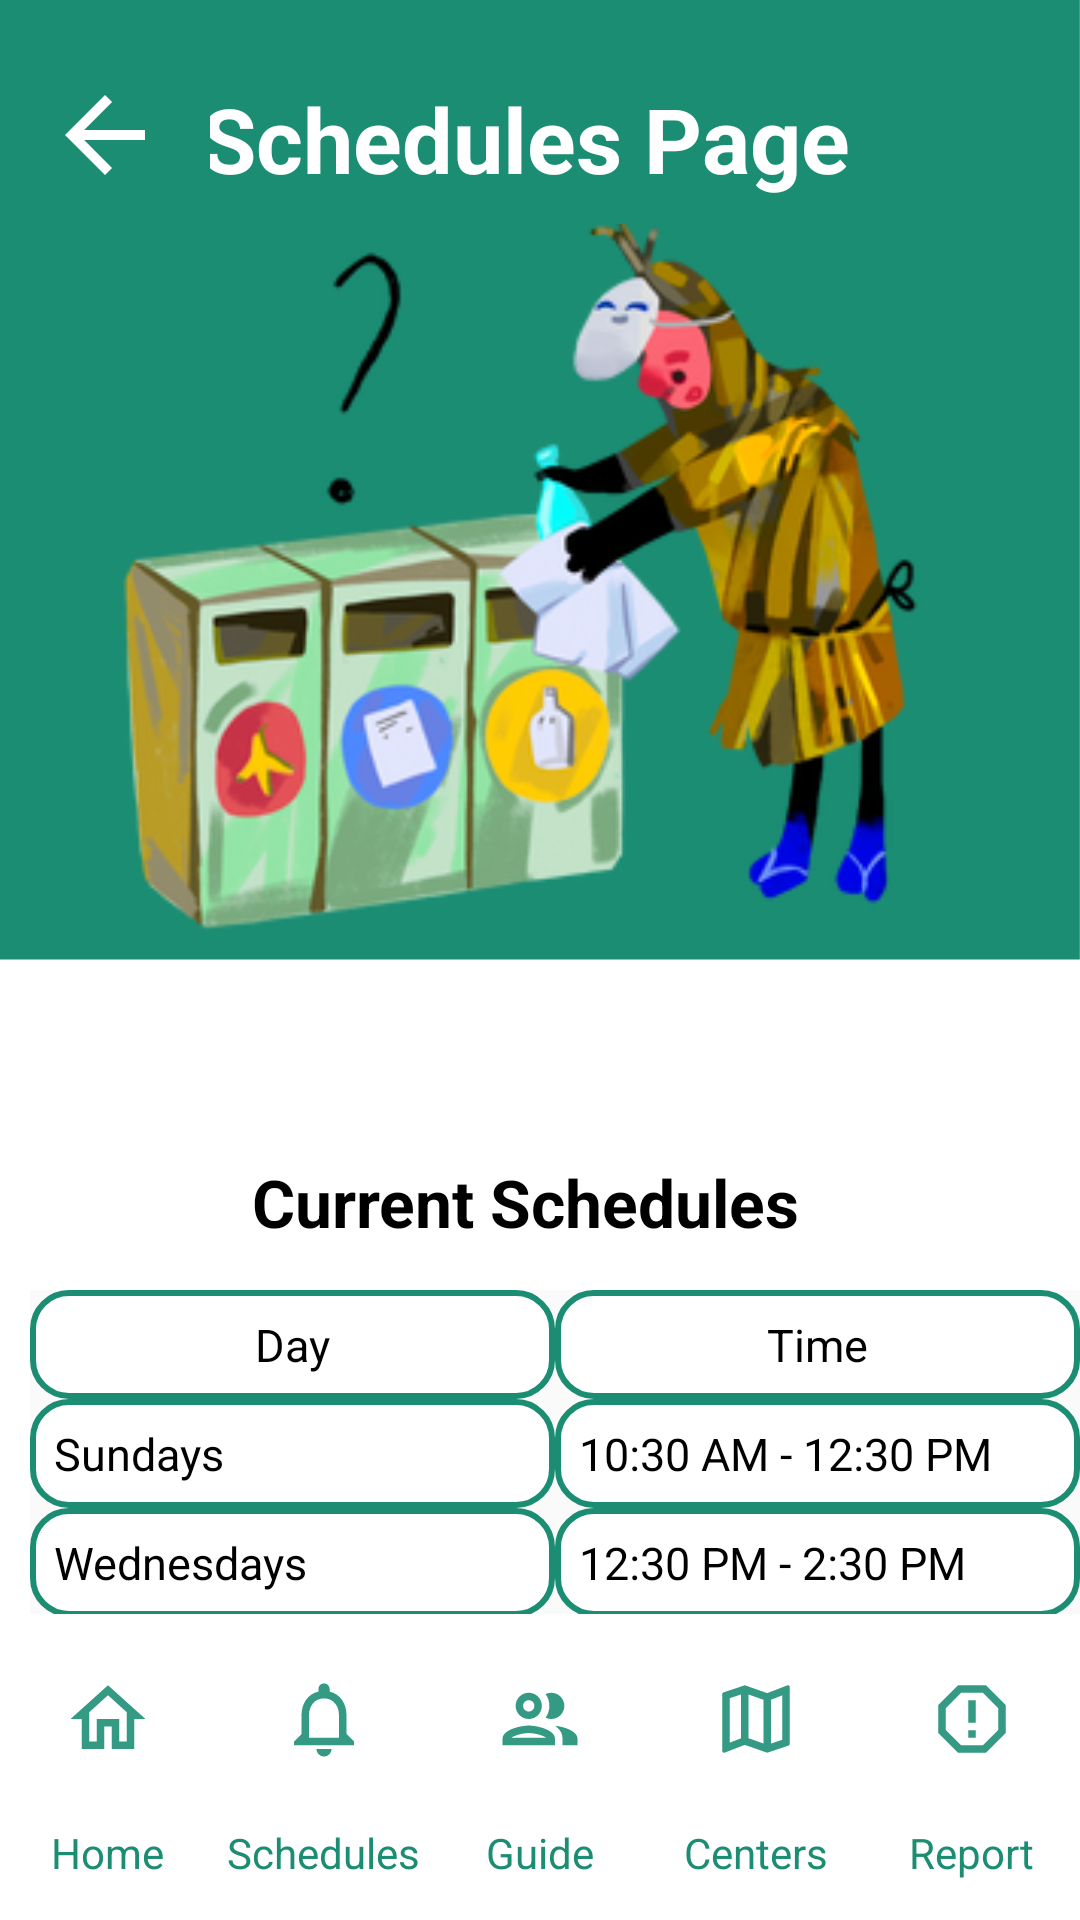

Screen size 1080x1920. Icon name, then its center in pixels as (x=x, y=y):
arrow: (x=105, y=135)
bell notification: (x=324, y=1720)
map: (x=756, y=1719)
people: (x=540, y=1719)
